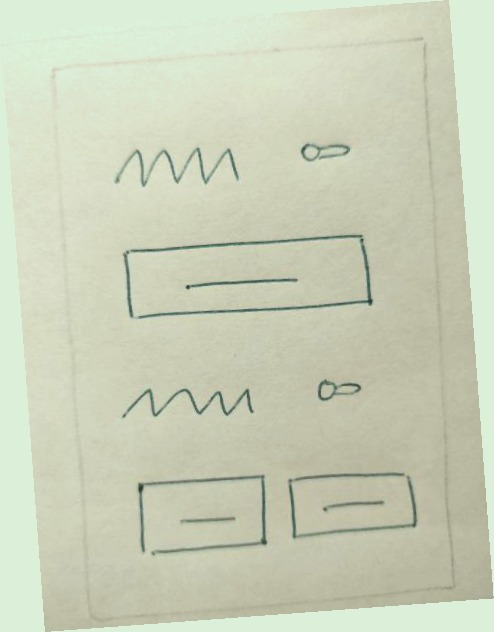button: (111, 221, 394, 341), (128, 467, 281, 567), (279, 461, 429, 549)
switch: (300, 361, 378, 414), (291, 133, 370, 174)
text: (111, 368, 272, 447), (97, 130, 263, 203)
